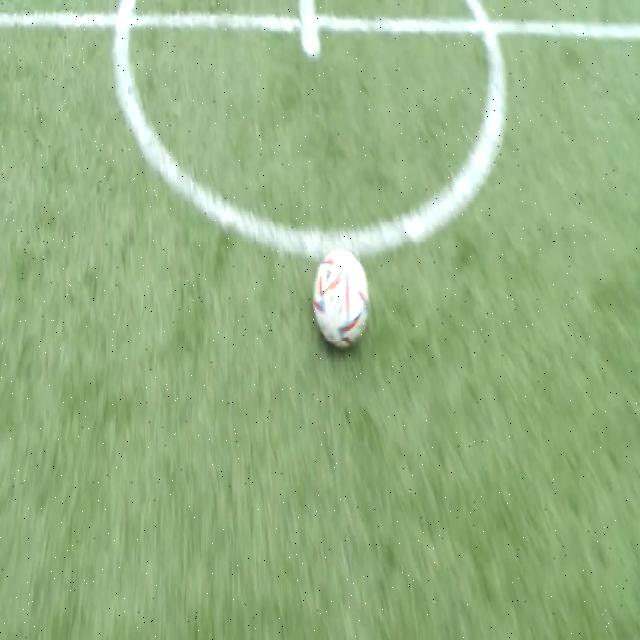ball: (315, 250, 367, 346)
